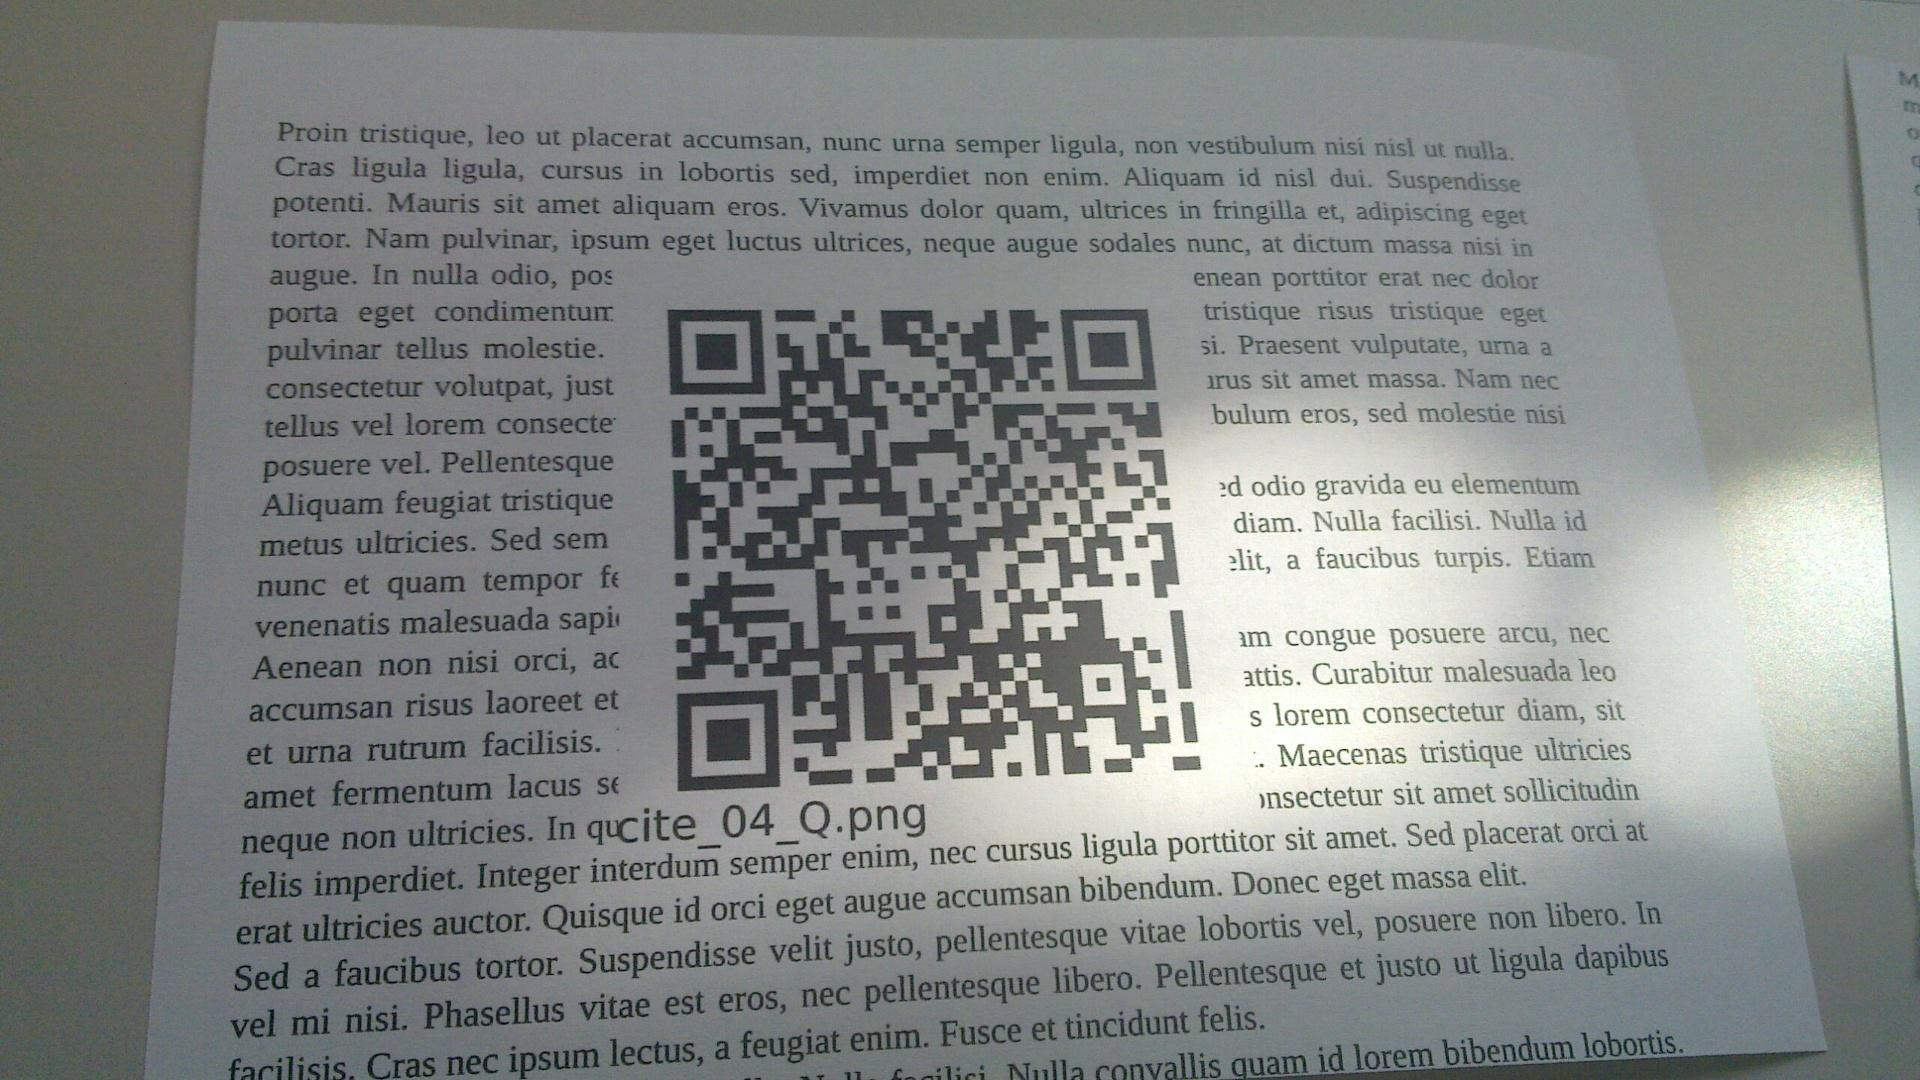Finder pattern: (673, 687, 785, 791), (1054, 303, 1160, 398), (662, 305, 770, 397)
